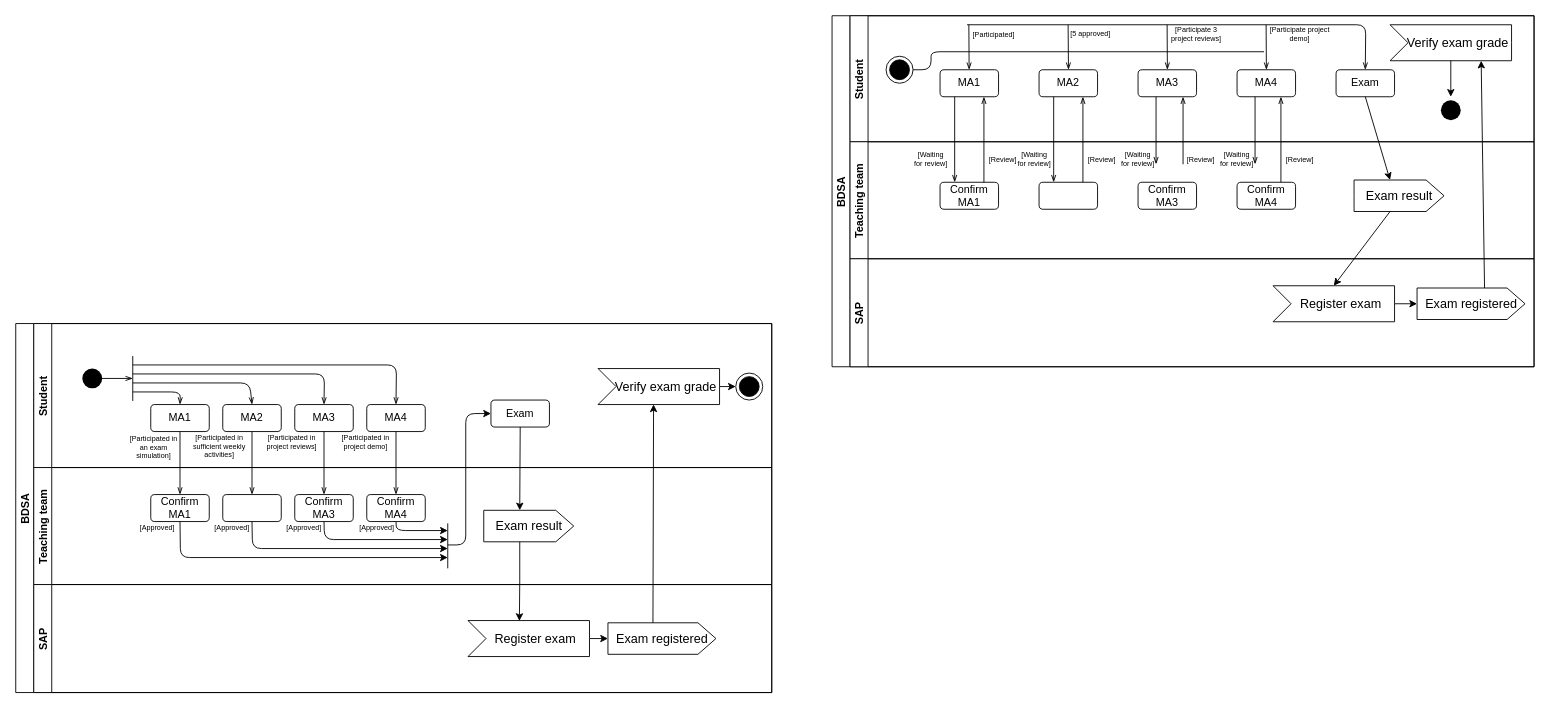
Image size: 1550x708. Some labels were removed from this diagram. Each missing label, with the box of its shape:
Confirm MA2: (222, 494, 281, 522)
Verify MA2: (1038, 181, 1098, 209)
